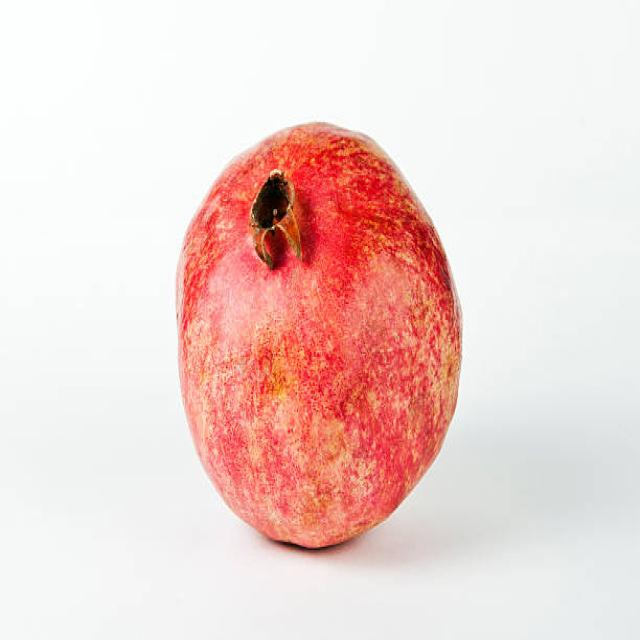Ripe: (174, 118, 467, 556)
